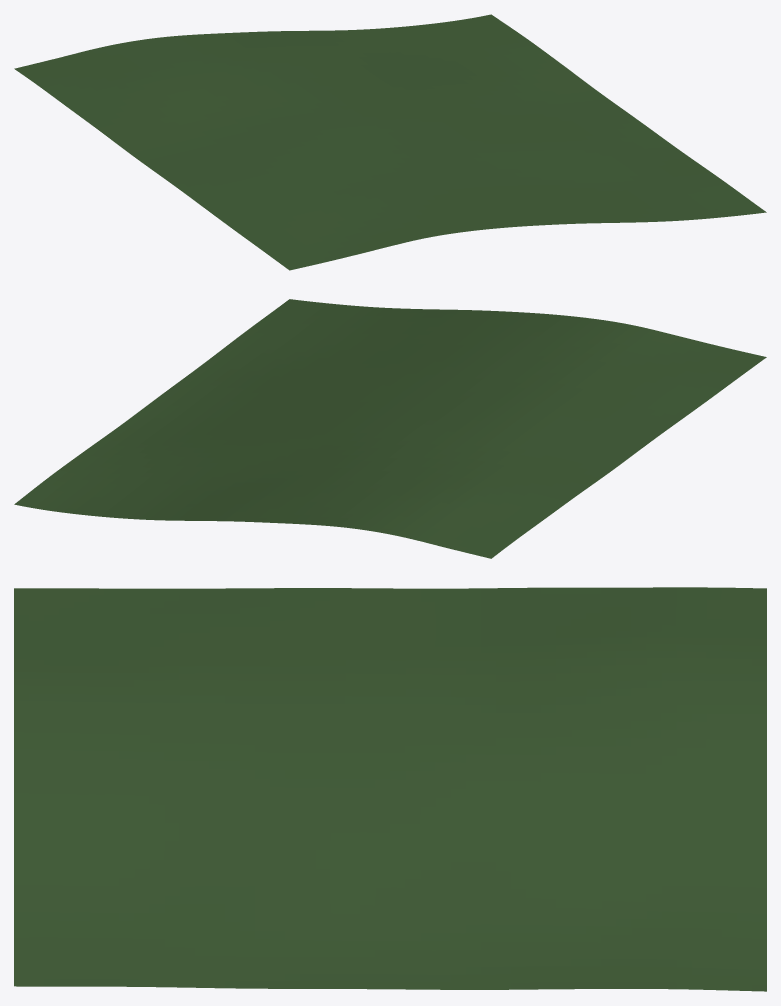
The model's file is chunk4-8_LOD0.obj.
The picture shows the model from 3 angles, top to bottom: view 1: azimuth 30°, elevation 25°; view 2: azimuth 150°, elevation 25°; view 3: azimuth 270°, elevation 25°; orthographic projection. The views are drawn at different scales.
Visible parts, largest first — view 1: Terrain; view 2: Terrain; view 3: Terrain.
Part boxes in pixels (left/top/right/bottom): Terrain: left=14, top=14, right=766, bottom=270; Terrain: left=14, top=299, right=766, bottom=558; Terrain: left=14, top=587, right=766, bottom=991.
Size of the model in its own units: 4000 by 509 by 4000.
